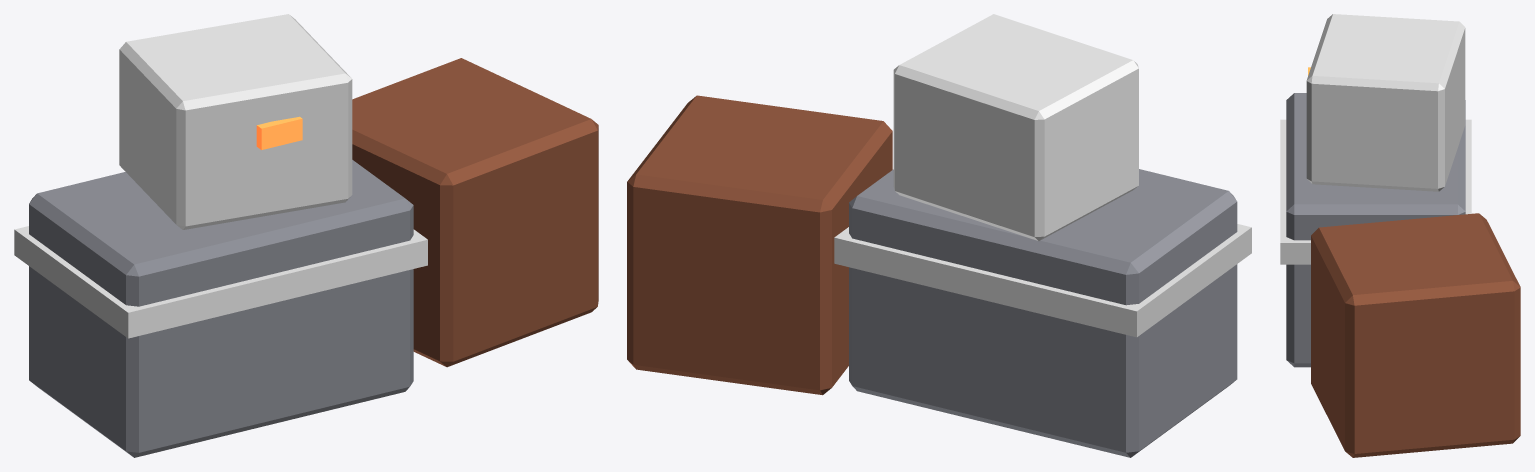
Rendered from Tech_Crate_Stack.fbx.
3 views of the same model, side by side, from view 1: azimuth 30°, elevation 25°; view 2: azimuth 150°, elevation 25°; view 3: azimuth 270°, elevation 25° (orthographic). The views are drawn at different scales.
Parts seen in each view (by area): view 1: Tech_Crate_Stack; view 2: Tech_Crate_Stack; view 3: Tech_Crate_Stack.
Part boxes in pixels (x1,y1,x2,y2): Tech_Crate_Stack: [14, 14, 598, 457]; Tech_Crate_Stack: [627, 14, 1251, 457]; Tech_Crate_Stack: [1280, 14, 1520, 457].
Size of the model in its own units: 2.51 by 1.5 by 1.21.
